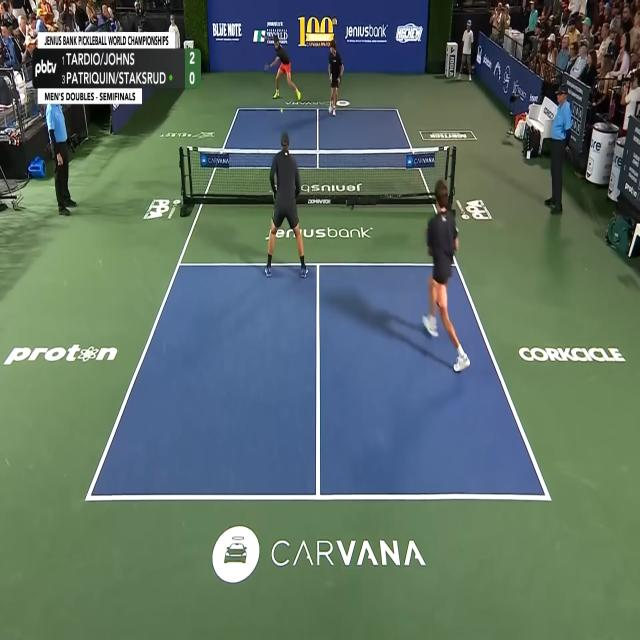ball: (280, 109, 283, 114)
